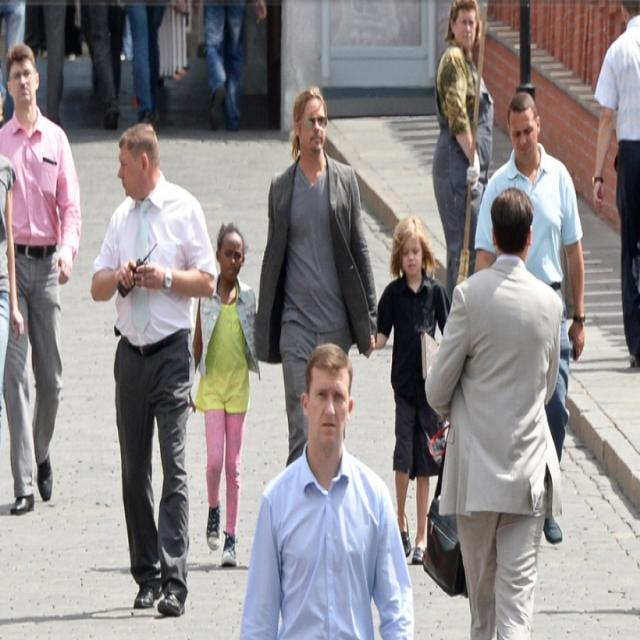body: (88, 120, 220, 622), (421, 183, 566, 639), (236, 338, 417, 638), (469, 89, 587, 549), (250, 81, 378, 465), (0, 42, 84, 520), (0, 0, 285, 131), (372, 212, 452, 565), (192, 220, 262, 568), (430, 0, 496, 308), (589, 0, 639, 374), (0, 88, 25, 435)
